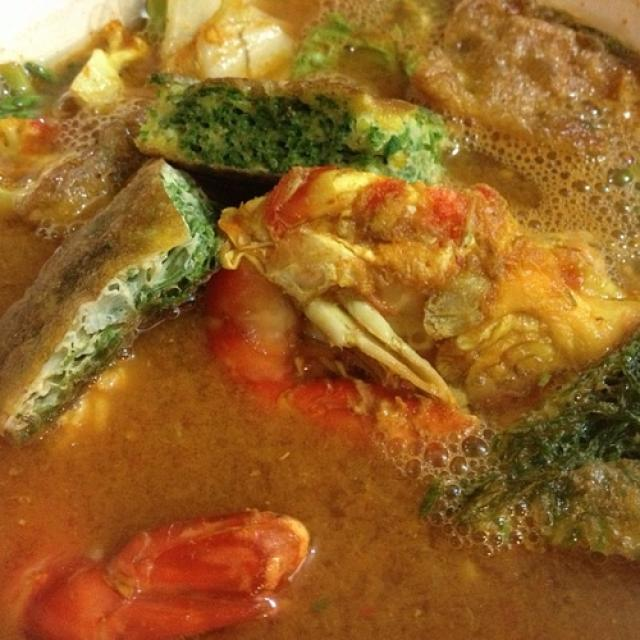汤锅炖物: (5, 10, 627, 613)
